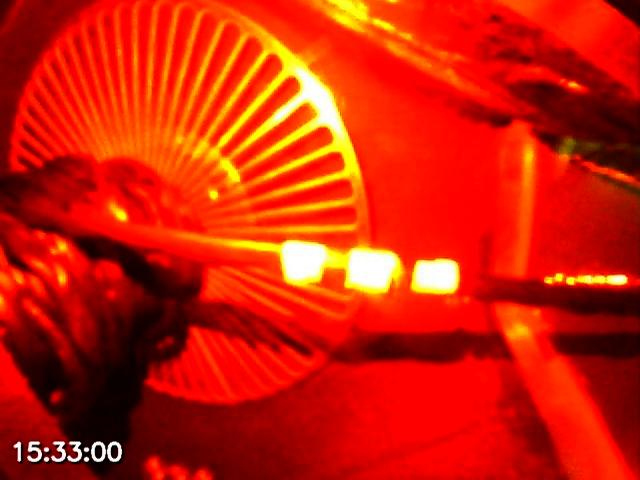white-dots: (278, 239, 460, 298)
